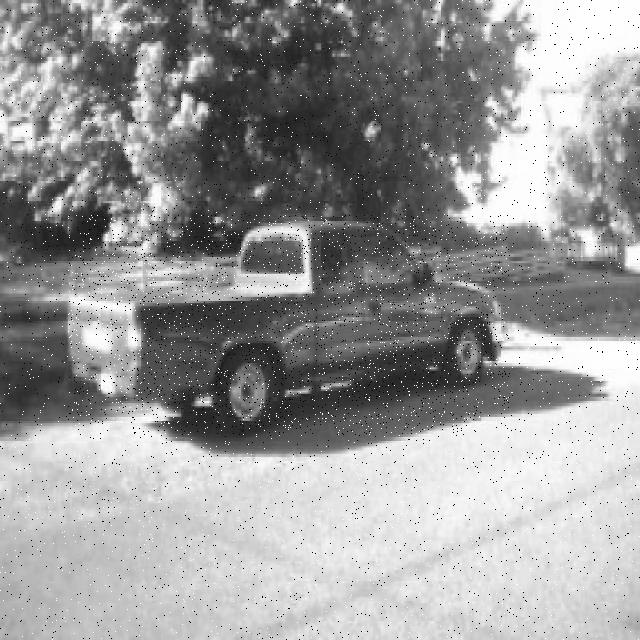Pickup: (68, 215, 509, 435)
